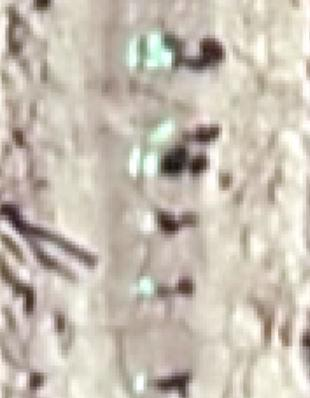cotton: (149, 32, 174, 66), (151, 116, 172, 139), (144, 154, 160, 176), (142, 213, 156, 236), (131, 40, 145, 62), (142, 278, 157, 295), (134, 375, 147, 390)
